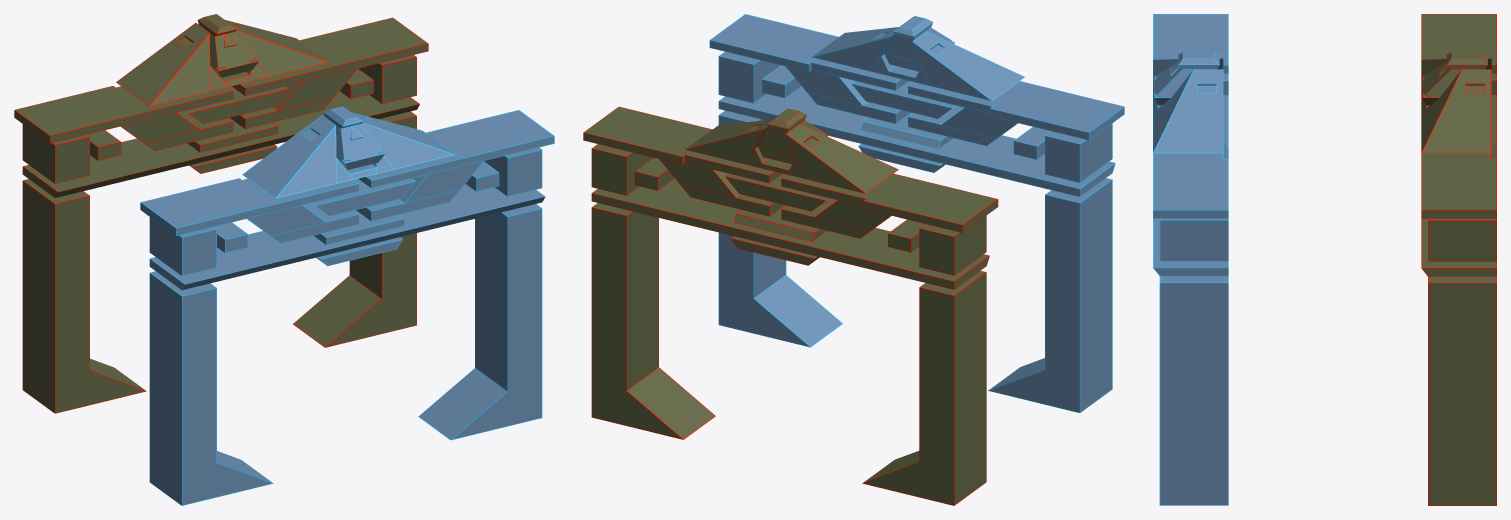
The model's file is TRON_RECOGNIZER.dae.
3 views of the same model, side by side, from view 1: azimuth 30°, elevation 25°; view 2: azimuth 150°, elevation 25°; view 3: azimuth 270°, elevation 25° (orthographic). The views are drawn at different scales.
Parts seen in each view (by area): view 1: Group13, Group30, Group2, Group19, Group7, Group25, Group10, Group28, Group5, Group32, Group15, Group21 (+20 smaller); view 2: Group19, Group2, Group30, Group28, Group13, Group7, Group10, Group25, Group32, Group5, Group15, Group21 (+20 smaller); view 3: Group13, Group19, Group10, Group25, Group15, Group21, Group5, Group32, Group14, Group20, Group7, Group28 (+2 smaller).
Part boxes in pixels (<box>): Group13: <box>418,204,542,440</box>; Group30: <box>22,179,146,413</box>; Group2: <box>149,271,273,505</box>; Group19: <box>293,111,416,347</box>; Group7: <box>149,184,545,290</box>; Group25: <box>116,20,328,106</box>; Group10: <box>242,112,455,198</box>; Group28: <box>22,91,419,197</box>; Group5: <box>140,178,359,235</box>; Group32: <box>14,86,233,143</box>; Group15: <box>358,110,554,188</box>; Group21: <box>232,17,428,95</box>; Group19: <box>591,203,715,439</box>; Group2: <box>988,178,1112,412</box>; Group30: <box>862,270,986,505</box>; Group28: <box>591,178,989,289</box>; Group13: <box>718,110,842,347</box>; Group7: <box>718,86,1115,196</box>; Group10: <box>811,27,1024,101</box>; Group25: <box>685,119,898,193</box>; Group32: <box>781,173,998,232</box>; Group5: <box>908,81,1124,140</box>; Group15: <box>709,14,908,90</box>; Group21: <box>583,106,782,183</box>; Group13: <box>1159,276,1228,505</box>; Group19: <box>1428,276,1496,505</box>; Group10: <box>1153,58,1223,153</box>; Group25: <box>1421,58,1491,153</box>; Group15: <box>1153,153,1228,218</box>; Group21: <box>1421,153,1496,218</box>; Group5: <box>1153,14,1228,73</box>; Group32: <box>1421,14,1496,73</box>; Group14: <box>1159,218,1228,261</box>; Group20: <box>1428,218,1496,261</box>; Group7: <box>1153,95,1228,276</box>; Group28: <box>1421,95,1496,276</box>.
Bounding box in the file's own units: 9672 × 8186 × 7159.
12 materials, 4 textured.
